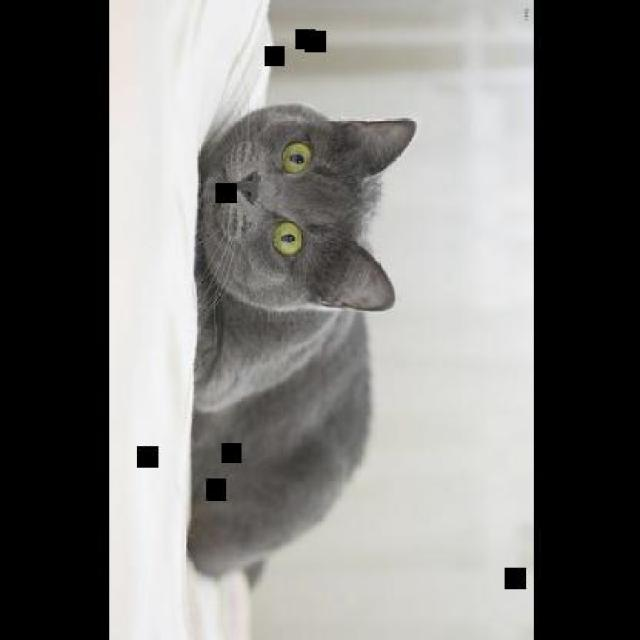unauthorized: (186, 100, 417, 586)
